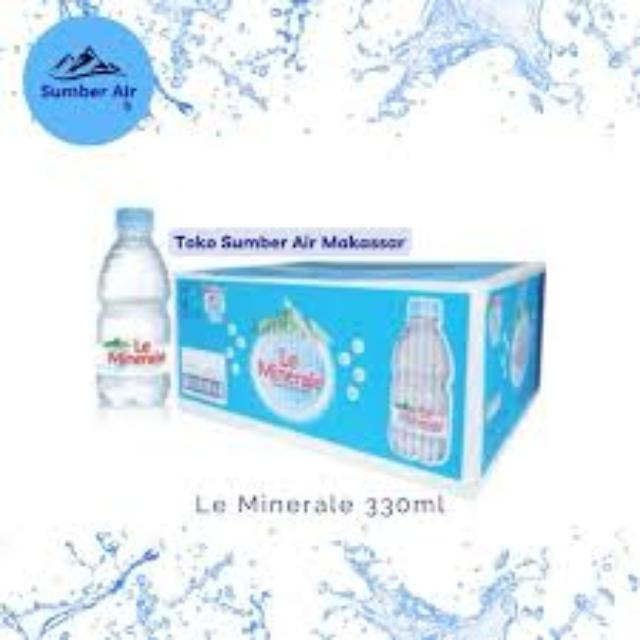trash: (94, 199, 178, 413)
